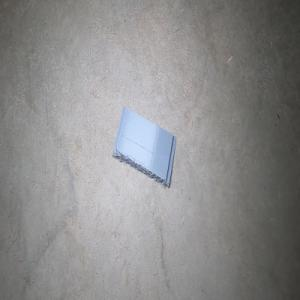PlasticPart: (111, 106, 176, 187)
